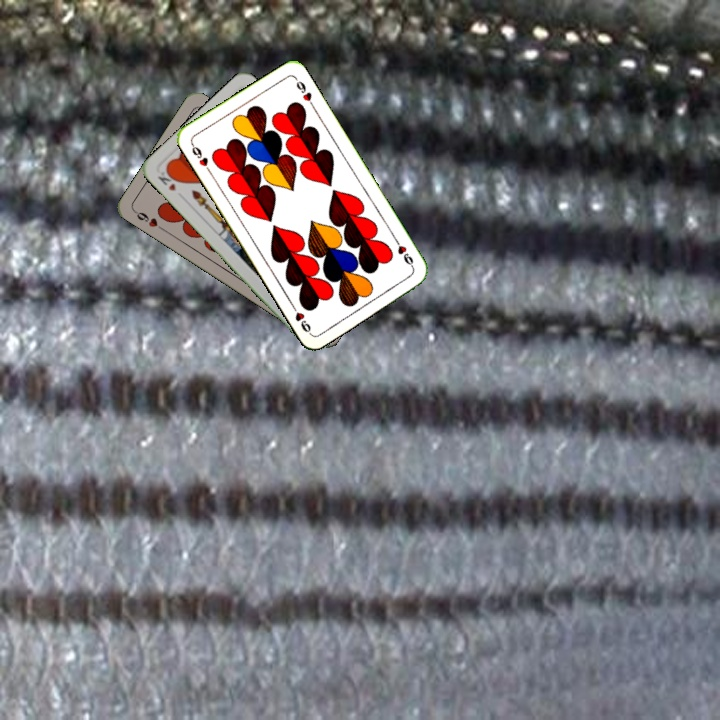H9: (130, 206, 166, 233), (187, 139, 214, 175), (391, 234, 417, 271)
HK: (154, 165, 181, 194)
